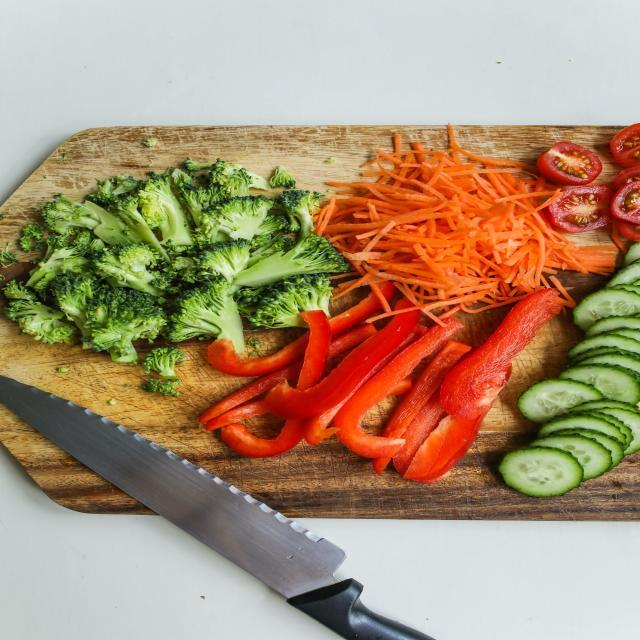Knife: (0, 376, 434, 639)
